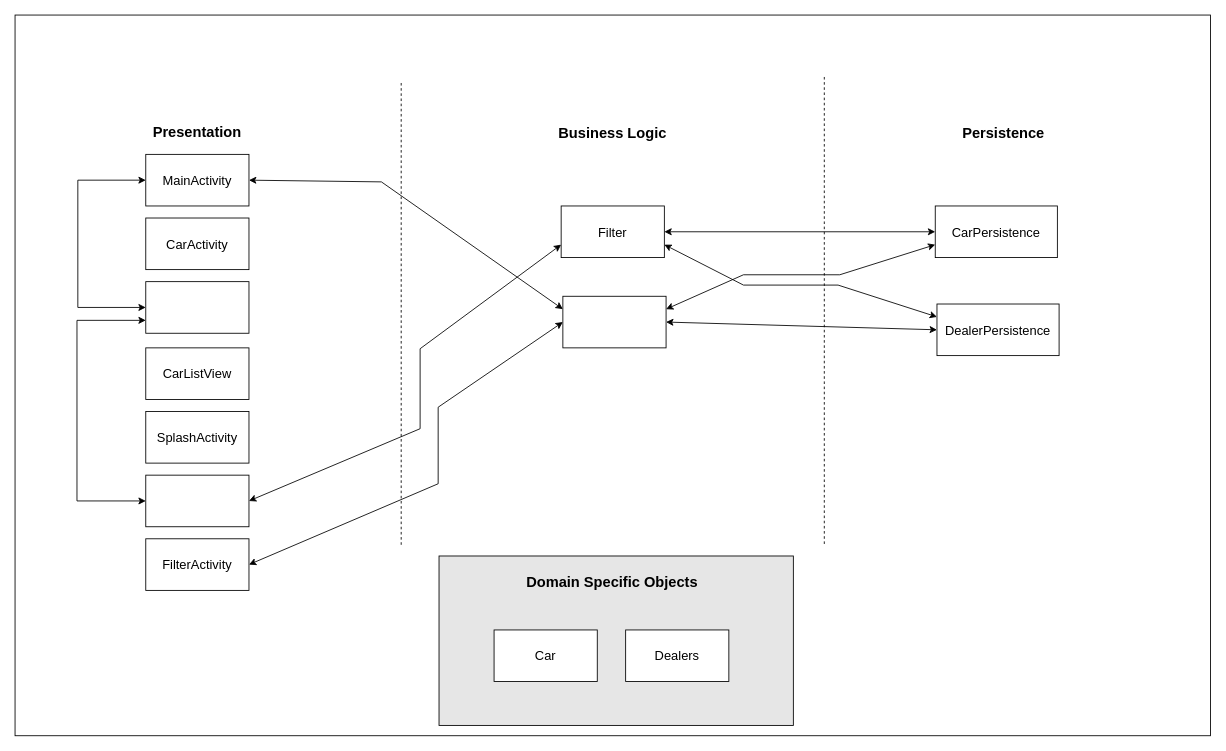
Some shapes in this 1226 by 751 pixel diagram are drawn without their labels. The shapes that lost their labels are listed below. From the top down, each one's centre as x and y in pixels, then its label:
the point at 197,307: CarAdapter
the point at 614,321: CarHandler
the point at 197,500: showCarActivity
